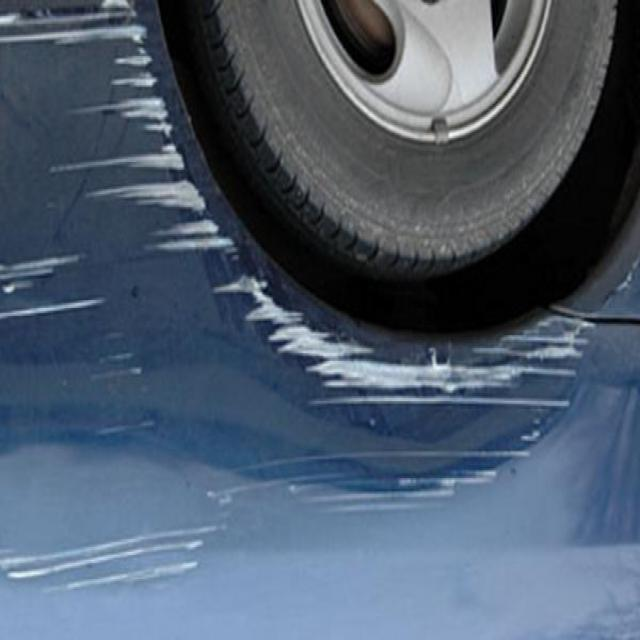scratch: (0, 11, 201, 640), (208, 198, 602, 514)
